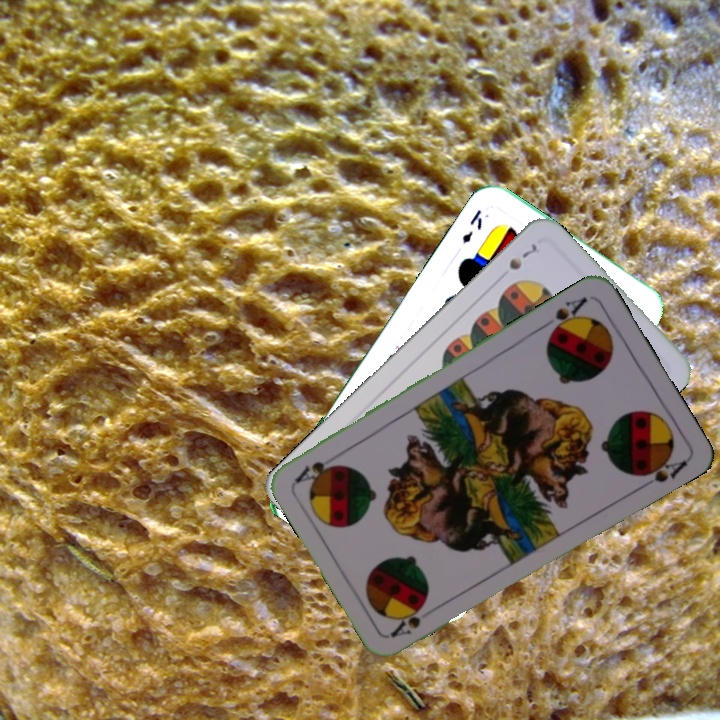EK: (458, 205, 485, 246)
S7: (505, 239, 540, 273)
SA: (539, 292, 590, 338), (386, 600, 440, 641)
